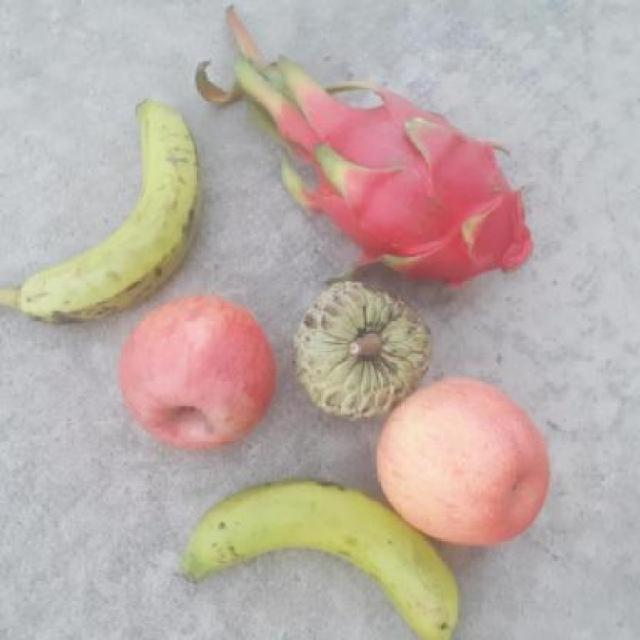apple: (374, 372, 558, 546), (118, 290, 278, 450)
banana: (169, 475, 466, 639), (0, 90, 208, 322)
dragon fruit: (312, 95, 539, 281)
sugar apple: (291, 280, 438, 425)
